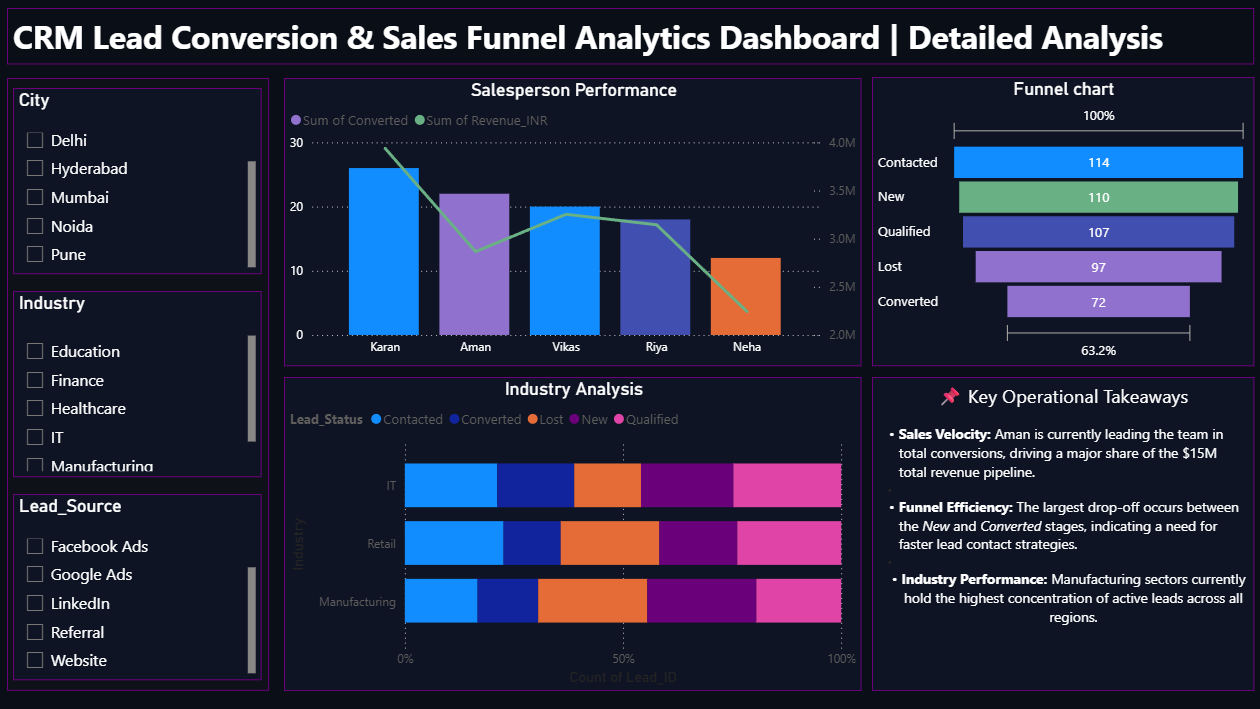

What the dashboard file says about the page in this screenshot:
{"tool":"powerbi","page":{"name":"Detailed analysis","canvas":[1280,720],"ordinal":1},"visuals":[{"type":"shape","box":[8.8,80.7,264.6,618.6],"z":0},{"type":"slicer","title":"City","fields":{"Values":["Leadss.City"]},"box":[15.6,90.5,250.9,187.7],"z":1000},{"type":"slicer","title":"Industry","fields":{"Values":["Leadss.Industry"]},"box":[15.6,295.7,250.9,187.7],"z":2000},{"type":"slicer","title":"Lead_Source","fields":{"Values":["Leadss.Lead_Source"]},"box":[15.6,500.9,250.9,187.7],"z":3000},{"type":"textbox","box":[9.1,10.1,1258.8,56.5],"z":4000},{"type":"lineStackedColumnComboChart","title":"Salesperson Performance","fields":{"Category":["Leadss.Assigned_To"],"Y":["Sum(Conversions.Converted)"],"Y2":["Sum(Conversions.Revenue_INR)"]},"box":[288.7,80.8,583.5,290.7],"z":5000},{"type":"hundredPercentStackedBarChart","title":"Industry Analysis","fields":{"Category":["Leadss.Industry"],"Series":["Leadss.Lead_Status"],"Y":["CountNonNull(Leadss.Lead_ID)"]},"box":[288.7,382.6,583.5,317],"z":6000},{"type":"funnel","title":"Funnel chart","fields":{"Category":["Leadss.Lead_Status"],"Y":["CountNonNull(Leadss.Lead_ID)"]},"box":[882.3,79.7,385.6,291.7],"z":7000},{"type":"textbox","box":[882.3,382.6,385.6,317],"z":8000}]}

Visuals, with their boxes in screenshot pixels (x1, y1, x2, y2), scaled from the page's 1280x720 canvas onto the 1260x709 screenshot:
shape: bbox=(9, 79, 269, 689)
"City" slicer: bbox=(15, 89, 262, 274)
"Industry" slicer: bbox=(15, 291, 262, 476)
"Lead_Source" slicer: bbox=(15, 493, 262, 678)
textbox: bbox=(9, 10, 1248, 66)
"Salesperson Performance" lineStackedColumnComboChart: bbox=(284, 80, 859, 366)
"Industry Analysis" hundredPercentStackedBarChart: bbox=(284, 377, 859, 689)
"Funnel chart" funnel: bbox=(869, 78, 1248, 366)
textbox: bbox=(869, 377, 1248, 689)
